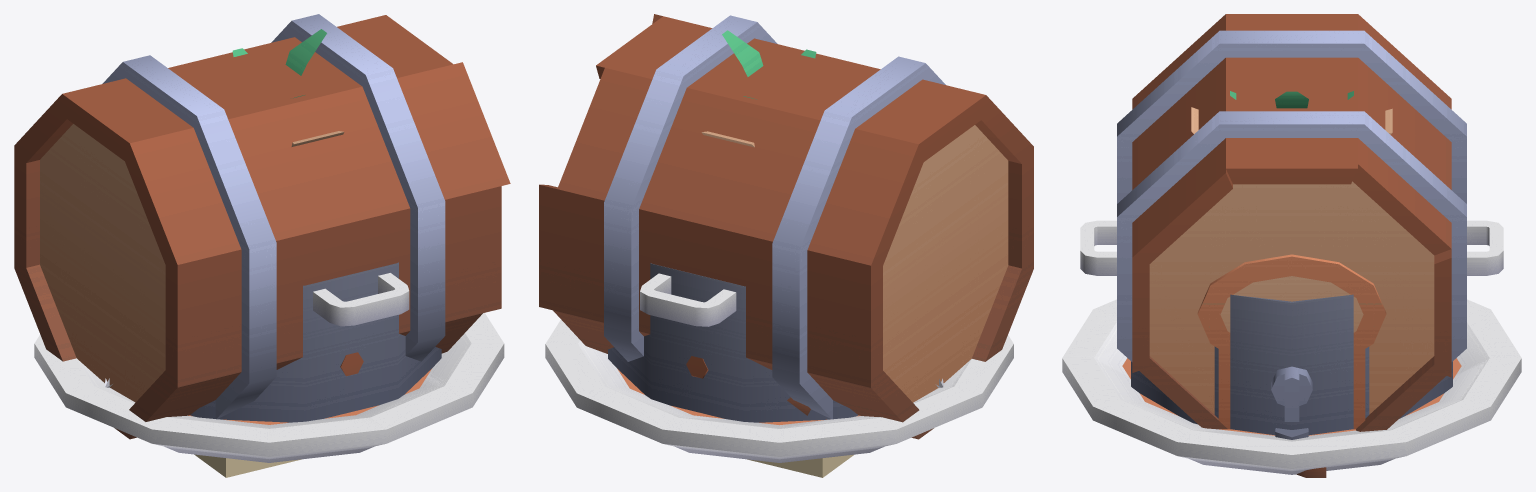
File: food.glb
3 views of the same model, side by side, from view 1: azimuth 30°, elevation 25°; view 2: azimuth 150°, elevation 25°; view 3: azimuth 270°, elevation 25° (orthographic). The views are drawn at different scales.
Parts seen in each view (by area): view 1: barrel, plate-dinner, pot-stew, Prepared potato diced, carrot, plate; view 2: barrel, plate-dinner, pot-stew, plate, Prepared potato diced, carrot; view 3: barrel, plate-dinner, pot-stew, loaf, plate, carrot.
Boxes of the visible parts, x1,y1,x2,y2 form: barrel: (14, 14, 510, 439); plate-dinner: (34, 313, 504, 462); pot-stew: (190, 262, 441, 422); Prepared potato diced: (194, 454, 301, 477); carrot: (232, 29, 326, 98); plate: (78, 335, 470, 441); barrel: (539, 14, 1033, 439); plate-dinner: (545, 319, 1013, 462); pot-stew: (608, 263, 858, 422); plate: (578, 342, 969, 458); Prepared potato diced: (747, 454, 853, 477); carrot: (722, 30, 816, 99); barrel: (1117, 14, 1466, 431); plate-dinner: (1062, 299, 1521, 474); pot-stew: (1080, 220, 1503, 435); loaf: (1197, 254, 1386, 429); plate: (1062, 310, 1488, 438); carrot: (1230, 91, 1353, 108).
Size of the model in its own units: 0.8918 by 0.8602 by 0.8918.
11 materials, 1 textured.
